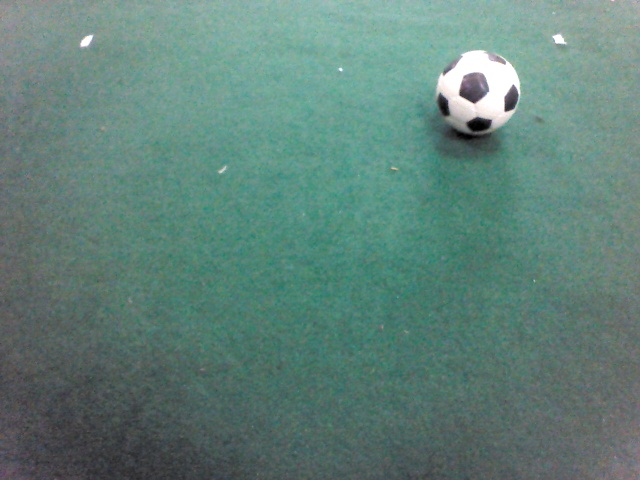ball: (433, 47, 524, 138)
